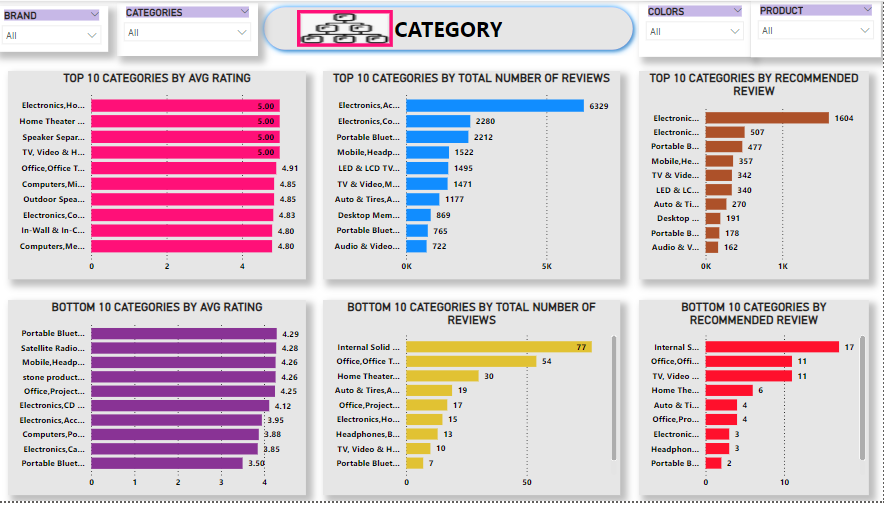

Layout of this report page (visuals, bound fields, positions):
{"tool":"powerbi","page":{"name":"Page 5","canvas":[1280,720],"ordinal":4},"visuals":[{"type":"shape","box":[378.7,0,548.6,79.2],"z":0},{"type":"image","box":[434.9,13,138.2,53.3],"z":1000},{"type":"barChart","title":"TOP 10 CATEGORIES BY AVG RATING","fields":{"Category":["Dataset.CATEGORIES"],"Y":["Avg(Dataset.REVIEWS RATING)"]},"box":[18.7,100.8,429.1,299.5],"z":2000},{"type":"barChart","title":"BOTTOM 10 CATEGORIES  BY AVG RATING","fields":{"Category":["Dataset.CATEGORIES"],"Y":["Avg(Dataset.REVIEWS RATING)"]},"box":[18.7,430.6,429.1,280.8],"z":3000},{"type":"barChart","title":"TOP 10 CATEGORIES BY TOTAL NUMBER OF REVIEWS","fields":{"Category":["Dataset.CATEGORIES"],"Y":["Sum(Dataset.REVIEWS RATING)"]},"box":[472.3,100.8,427.7,299.5],"z":4000},{"type":"barChart","title":"BOTTOM 10 CATEGORIES BY TOTAL NUMBER OF REVIEWS","fields":{"Category":["Dataset.CATEGORIES"],"Y":["Sum(Dataset.REVIEWS RATING)"]},"box":[472,431,428,281],"z":5000},{"type":"barChart","title":"TOP 10 CATEGORIES BY RECOMMENDED REVIEW","fields":{"Category":["Dataset.CATEGORIES"],"Y":["CountNonNull(Dataset.TOTAL RECOMMENDED REVIEWS)"]},"box":[927.4,100.8,331.2,299.5],"z":6000},{"type":"barChart","title":"BOTTOM 10 CATEGORIES BY RECOMMENDED REVIEW","fields":{"Category":["Dataset.CATEGORIES"],"Y":["CountNonNull(Dataset.TOTAL RECOMMENDED REVIEWS)"]},"box":[927,431,331,281],"z":7000},{"type":"slicer","fields":{"Values":["Dataset.BRAND"]},"box":[0,7.2,162.7,66.2],"z":8000},{"type":"slicer","fields":{"Values":["Dataset.CATEGORIES"]},"box":[175.7,2.9,203,76.3],"z":9000},{"type":"slicer","fields":{"Values":["Dataset.COLORS"]},"box":[927.4,1.4,161.3,79.2],"z":10000},{"type":"slicer","fields":{"Values":["Dataset.PRODUCT"]},"box":[1088.6,0,187.2,80.6],"z":11000}]}

Visuals, with their boxes in screenshot pixels (x1, y1, x2, y2), scaled from the page's 1280x720 canvas onto the 884x505 screenshot:
shape: BBox(262, 0, 640, 56)
image: BBox(300, 9, 396, 47)
"TOP 10 CATEGORIES BY AVG RATING" barChart: BBox(13, 71, 309, 281)
"BOTTOM 10 CATEGORIES  BY AVG RATING" barChart: BBox(13, 302, 309, 499)
"TOP 10 CATEGORIES BY TOTAL NUMBER OF REVIEWS" barChart: BBox(326, 71, 622, 281)
"BOTTOM 10 CATEGORIES BY TOTAL NUMBER OF REVIEWS" barChart: BBox(326, 302, 622, 499)
"TOP 10 CATEGORIES BY RECOMMENDED REVIEW" barChart: BBox(640, 71, 869, 281)
"BOTTOM 10 CATEGORIES BY RECOMMENDED REVIEW" barChart: BBox(640, 302, 869, 499)
slicer - Dataset.BRAND: BBox(0, 5, 112, 51)
slicer - Dataset.CATEGORIES: BBox(121, 2, 262, 56)
slicer - Dataset.COLORS: BBox(640, 1, 752, 57)
slicer - Dataset.PRODUCT: BBox(752, 0, 881, 57)
